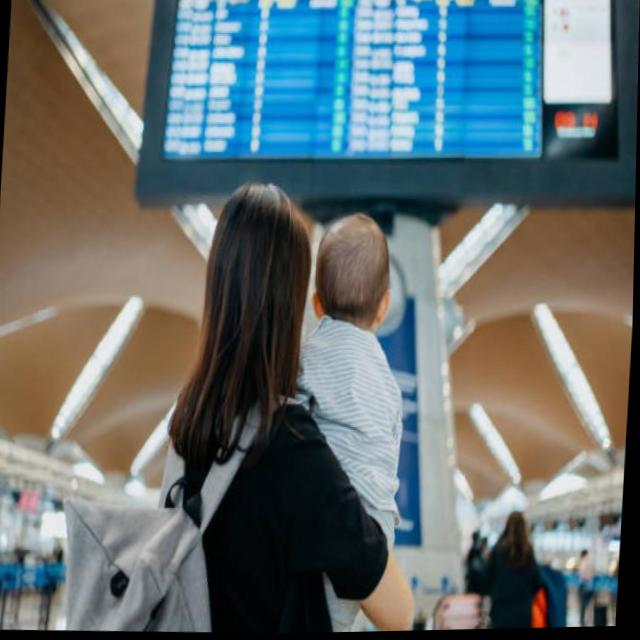no helmet: (199, 180, 316, 400), (312, 213, 396, 339), (508, 513, 530, 552)
